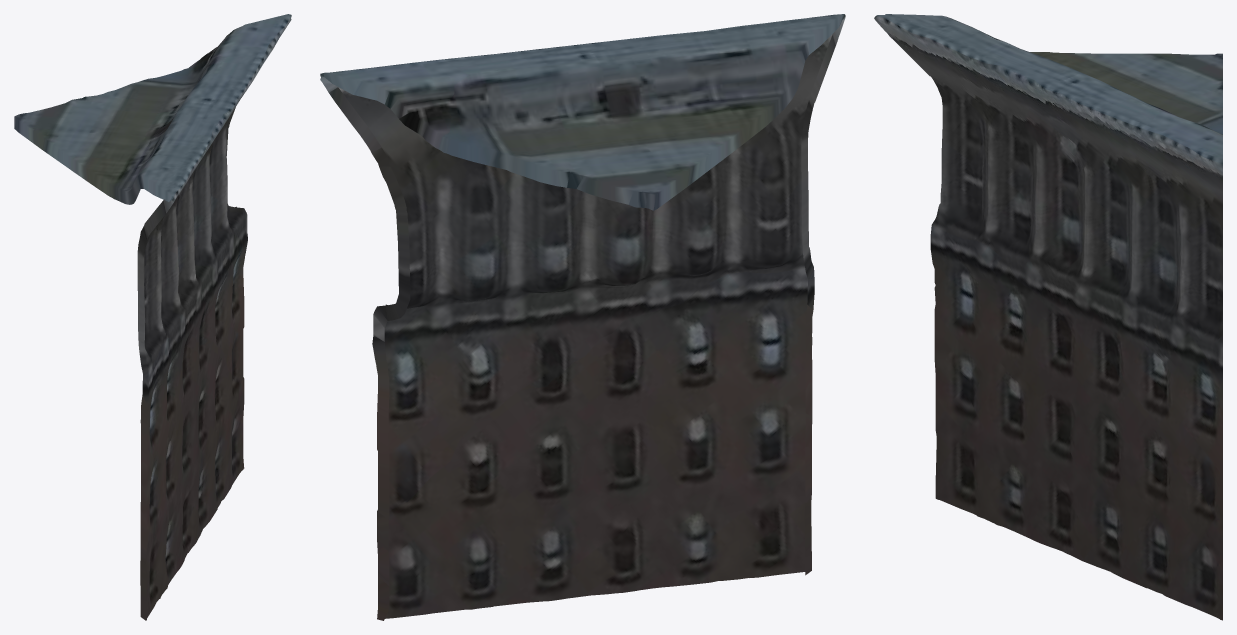
File: z20-167788-405225-h1-yup-uvflip-v3-world.glb
3 views of the same model, side by side, from view 1: azimuth 30°, elevation 25°; view 2: azimuth 150°, elevation 25°; view 3: azimuth 270°, elevation 25° (orthographic). The views are drawn at different scales.
Size of the model in its own units: 14.04 by 21.52 by 14.04.
Materials: 1 (1 with a texture image).
